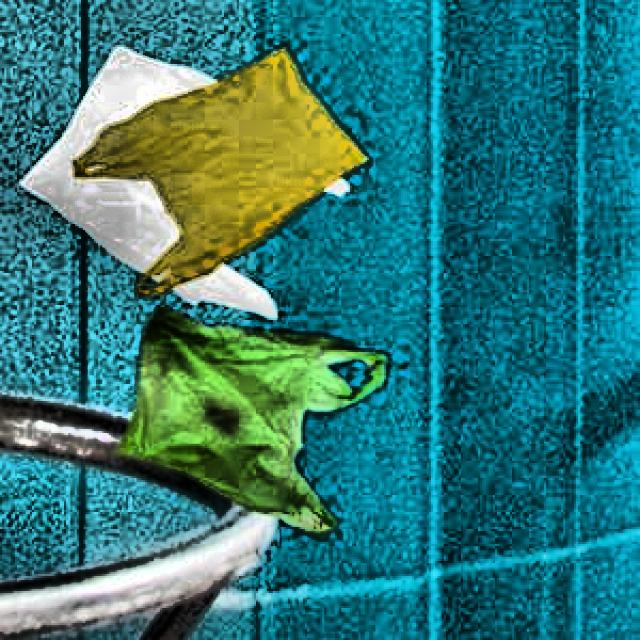Plastic: (23, 50, 357, 311), (80, 34, 376, 299), (102, 302, 396, 556)
